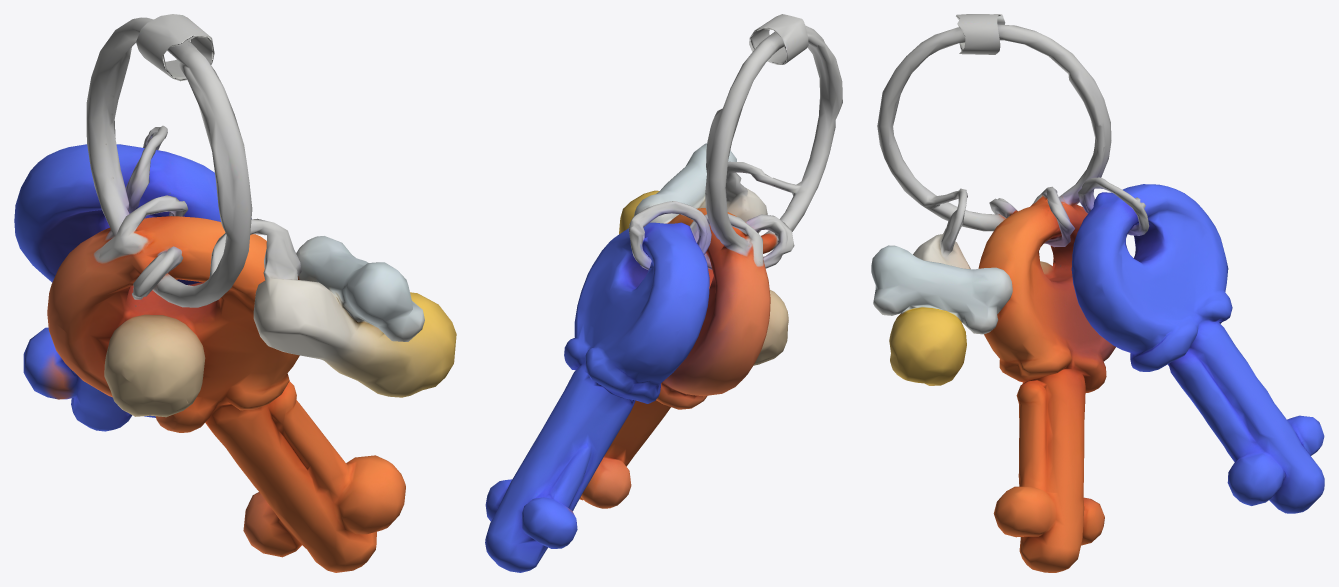
The model's file is keys_h3.glb.
The picture shows the model from 3 angles, left to right: view 1: azimuth 30°, elevation 25°; view 2: azimuth 150°, elevation 25°; view 3: azimuth 270°, elevation 25°; orthographic projection. The views are drawn at different scales.
Parts seen in each view (by area): view 1: tripo_node_63edc904-b5bc-41f5-b602-5158fb5f20eb; view 2: tripo_node_63edc904-b5bc-41f5-b602-5158fb5f20eb; view 3: tripo_node_63edc904-b5bc-41f5-b602-5158fb5f20eb.
Part boxes in pixels (bbox=[...]): tripo_node_63edc904-b5bc-41f5-b602-5158fb5f20eb: bbox=[14, 14, 456, 572]; tripo_node_63edc904-b5bc-41f5-b602-5158fb5f20eb: bbox=[485, 14, 842, 572]; tripo_node_63edc904-b5bc-41f5-b602-5158fb5f20eb: bbox=[871, 14, 1324, 572].
Size of the model in its own units: 0.51 by 1 by 0.86.
Materials: 1 (1 with a texture image).
